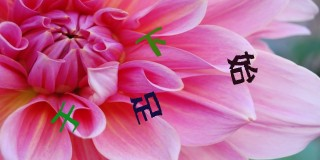下: (135, 26, 166, 55)
于: (49, 101, 80, 133)
始: (227, 50, 259, 86)
足: (129, 91, 163, 124)
